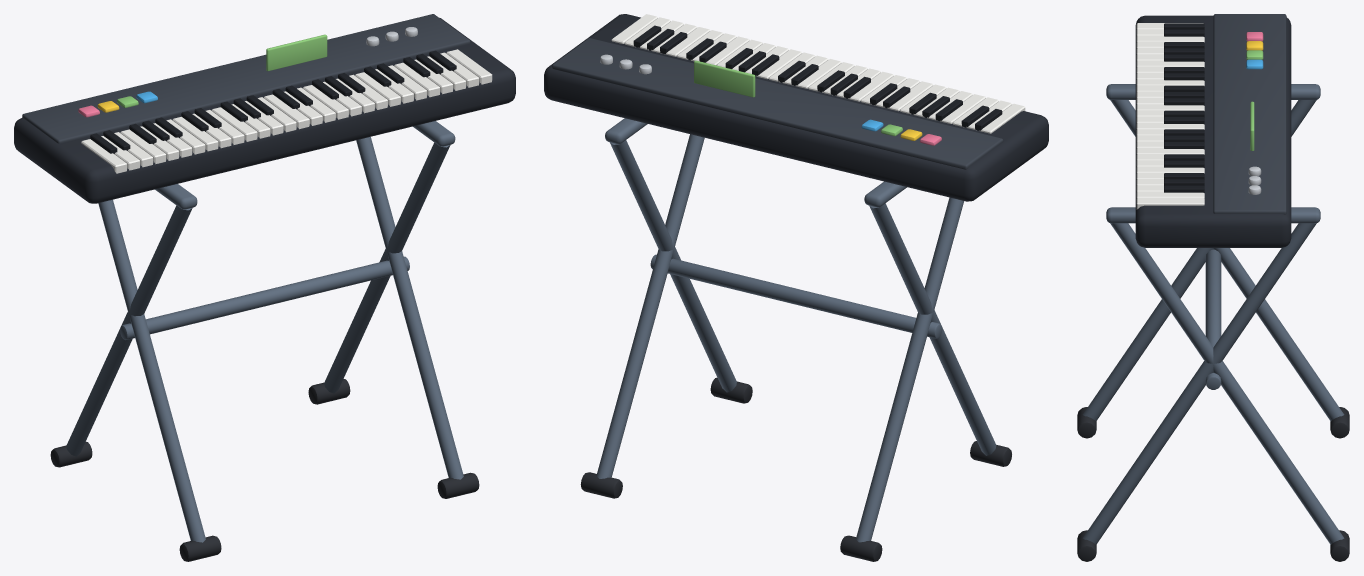
The model's file is teclado_suporte.glb.
3 views of the same model, side by side, from view 1: azimuth 30°, elevation 25°; view 2: azimuth 150°, elevation 25°; view 3: azimuth 270°, elevation 25° (orthographic). The views are drawn at different scales.
Visible parts, largest first — view 1: teclado_suporte; view 2: teclado_suporte; view 3: teclado_suporte.
Boxes of the visible parts, x1=… form: teclado_suporte: x1=14, y1=14, x2=515, y2=561; teclado_suporte: x1=544, y1=14, x2=1048, y2=561; teclado_suporte: x1=1077, y1=14, x2=1349, y2=561.
Size of the model in its own units: 1 by 0.912 by 0.56.
1 material, 1 textured.
